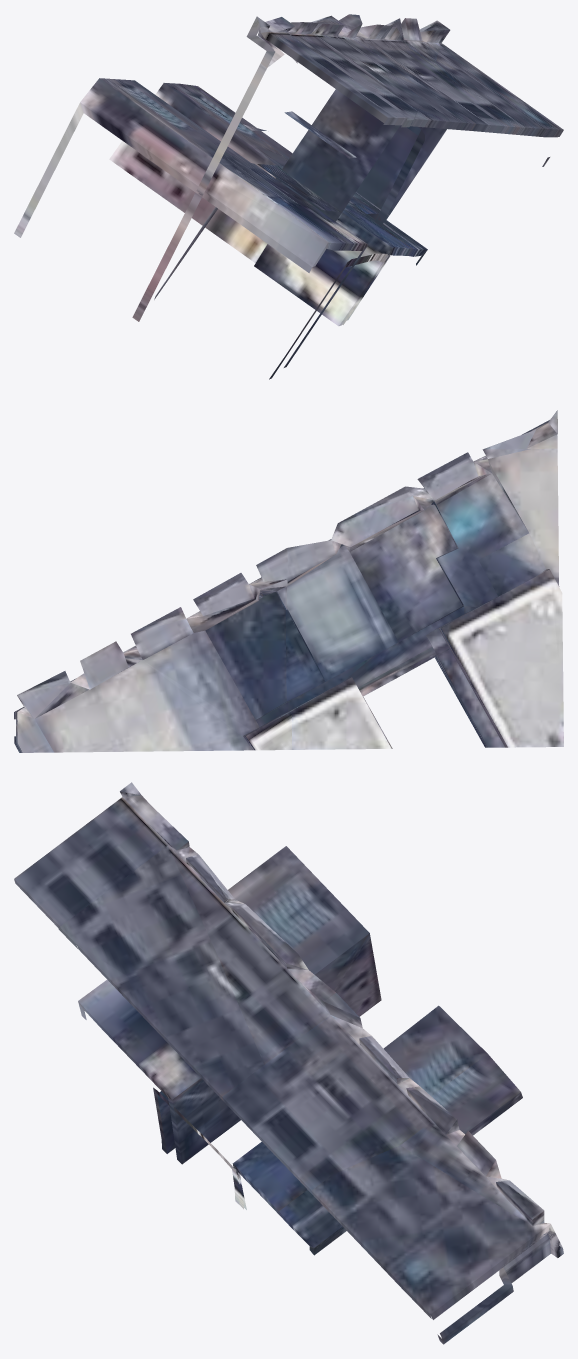
3 views of the same model, one above another, from view 1: azimuth 30°, elevation 25°; view 2: azimuth 150°, elevation 25°; view 3: azimuth 270°, elevation 25° (orthographic). The views are drawn at different scales.
Bounding box in the file's own units: 37.75 × 23.66 × 32.69.
1 material, 1 textured.
